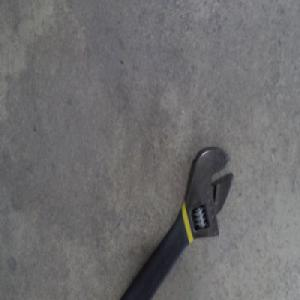AdjustableWrench: (117, 147, 234, 299)
